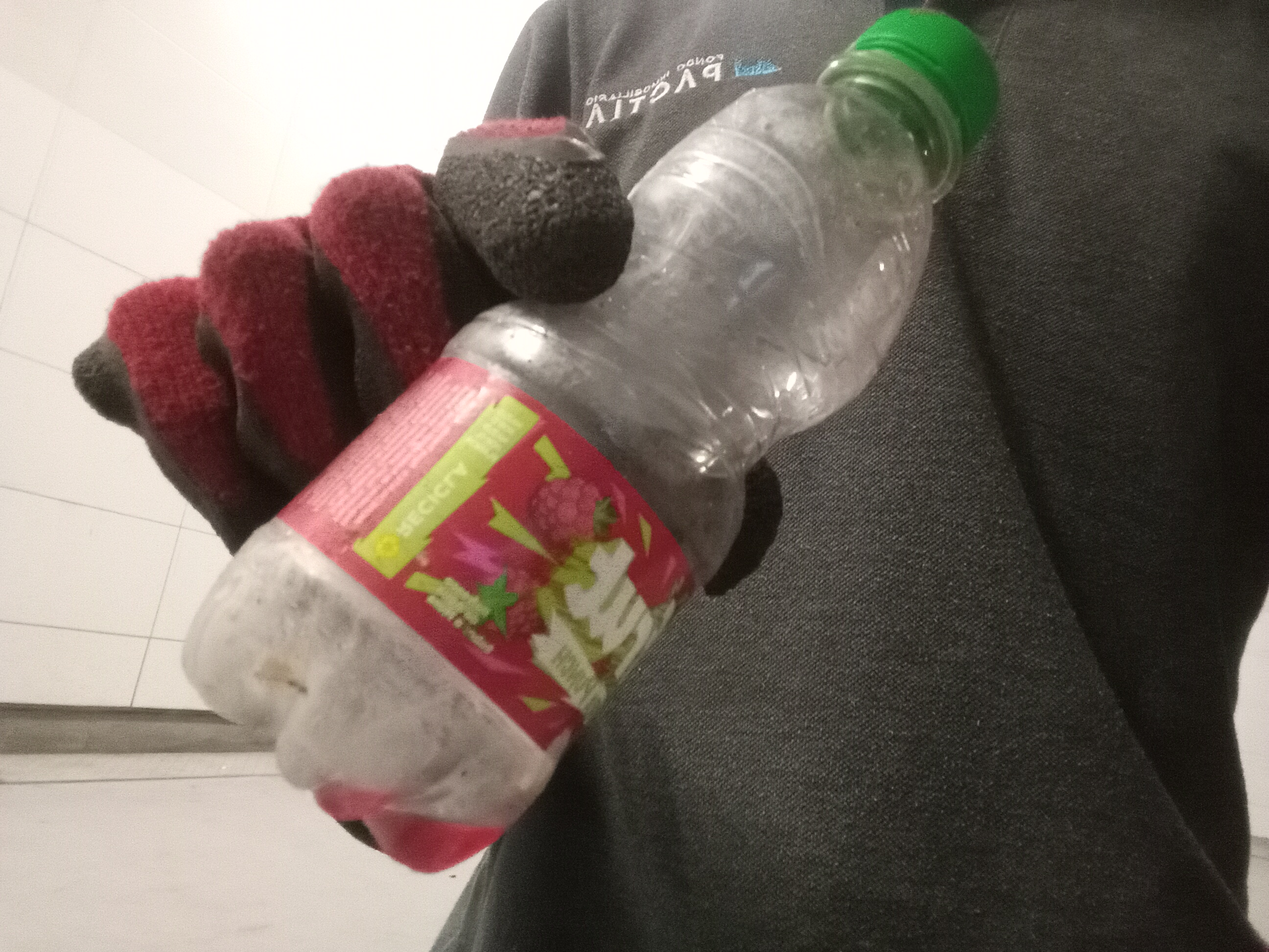Plastico: (181, 9, 1002, 872)
